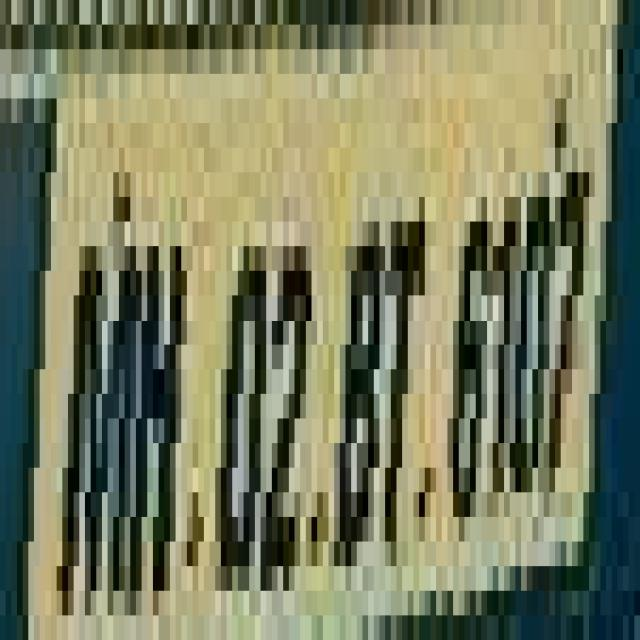license_plate: (39, 49, 628, 616)
